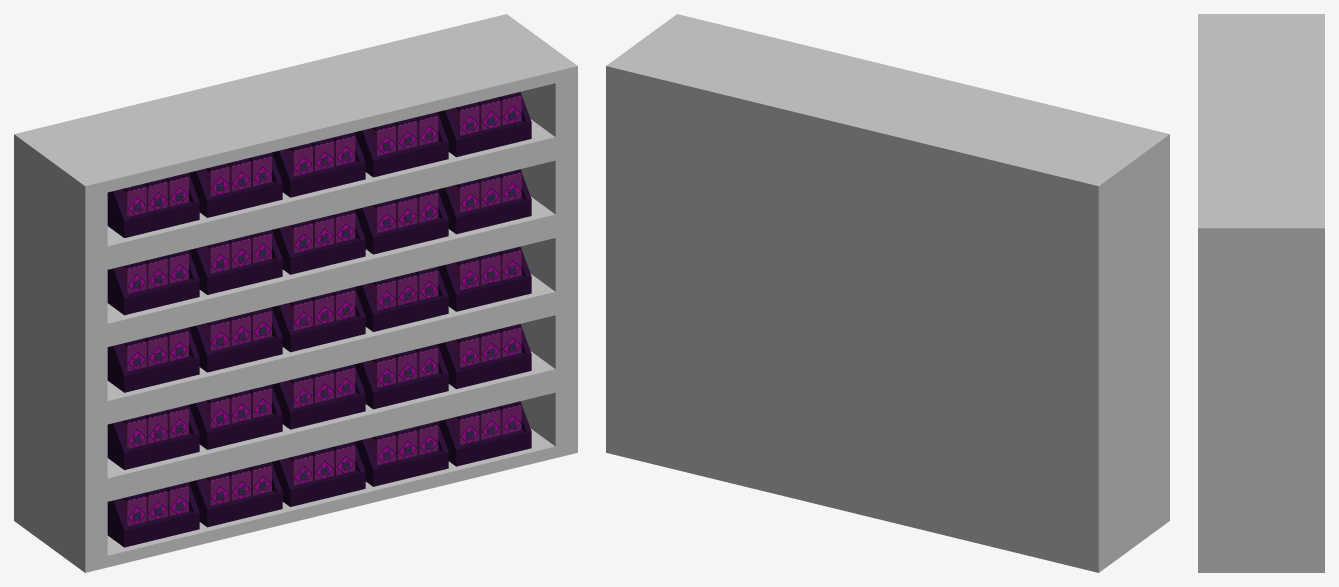
Rendered from Evelmart_Shelf_Dark (1).fbx.
3 renders of one model, left to right at view 1: azimuth 30°, elevation 25°; view 2: azimuth 150°, elevation 25°; view 3: azimuth 270°, elevation 25°, orthographic. The views are drawn at different scales.
Visible parts, largest first — view 1: Dark; view 2: Dark; view 3: Dark.
Part boxes in pixels (x1,y1,x2,y2): Dark: (14,14,577,572); Dark: (606,14,1169,572); Dark: (1198,14,1324,572).
Size of the model in its own units: 805 by 604 by 201.
